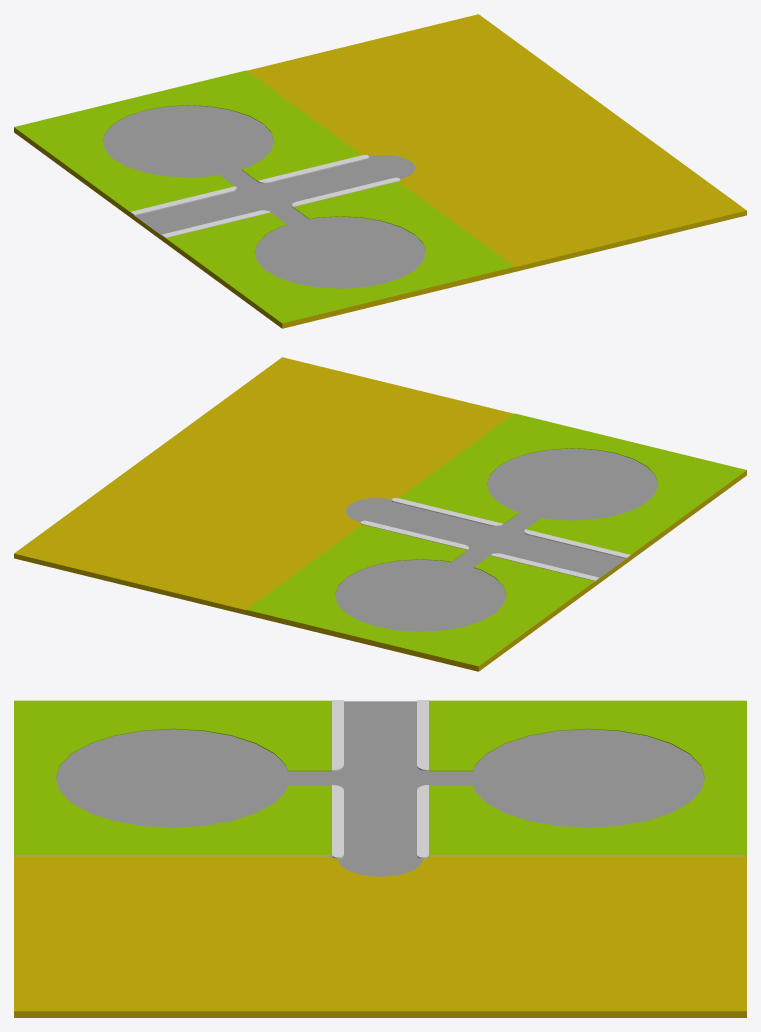
The picture shows the model from 3 angles, top to bottom: view 1: azimuth 30°, elevation 25°; view 2: azimuth 150°, elevation 25°; view 3: azimuth 270°, elevation 25°; orthographic projection. The views are drawn at different scales.
Visible parts, largest first — view 1: 6; view 2: 6; view 3: 6.
Boxes of the visible parts, box(x1,y1,x2,y2) form: 6: box(14, 14, 746, 328); 6: box(14, 357, 746, 671); 6: box(14, 700, 746, 1017).
Size of the model in its own units: 5000 by 60 by 5000.
